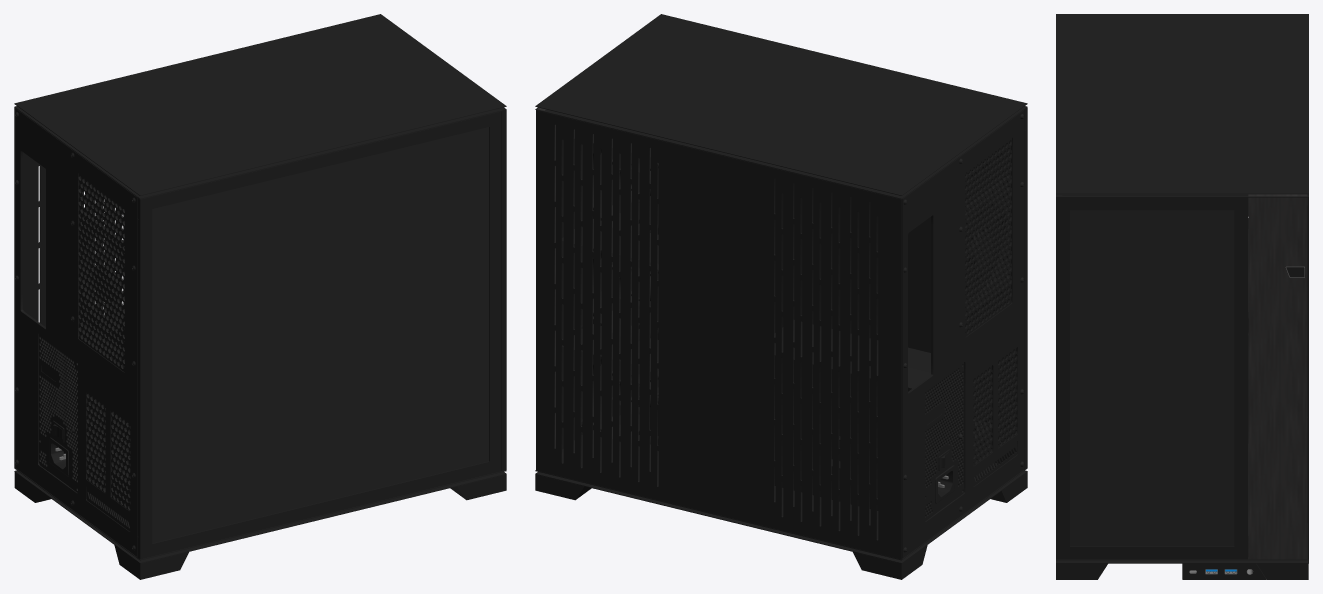
File: Computer_Tower.FBX
The picture shows the model from 3 angles, left to right: view 1: azimuth 30°, elevation 25°; view 2: azimuth 150°, elevation 25°; view 3: azimuth 270°, elevation 25°; orthographic projection.
Parts seen in each view (by area): view 1: case, glass; view 2: case, glass; view 3: case, glass.
Boxes of the visible parts, bbox=[...] form: case: bbox=[14, 14, 506, 579]; glass: bbox=[152, 127, 488, 543]; case: bbox=[535, 14, 1027, 579]; glass: bbox=[581, 140, 1013, 441]; case: bbox=[1056, 14, 1308, 579]; glass: bbox=[1070, 210, 1234, 545].
Size of the model in its own units: 47.33 by 47.12 by 27.95.
